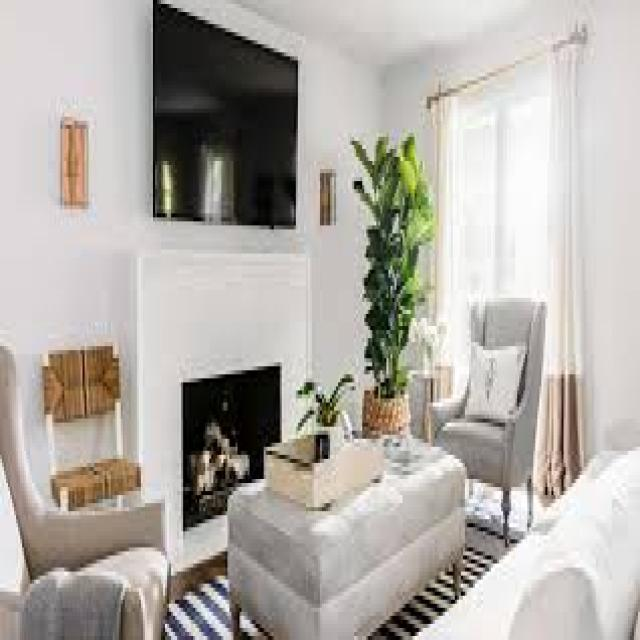Chair: (432, 269, 544, 546), (37, 331, 144, 539)
Lamp: (51, 94, 99, 231), (316, 160, 341, 230)
Sofa: (418, 450, 640, 640)
Table: (206, 390, 465, 627)
